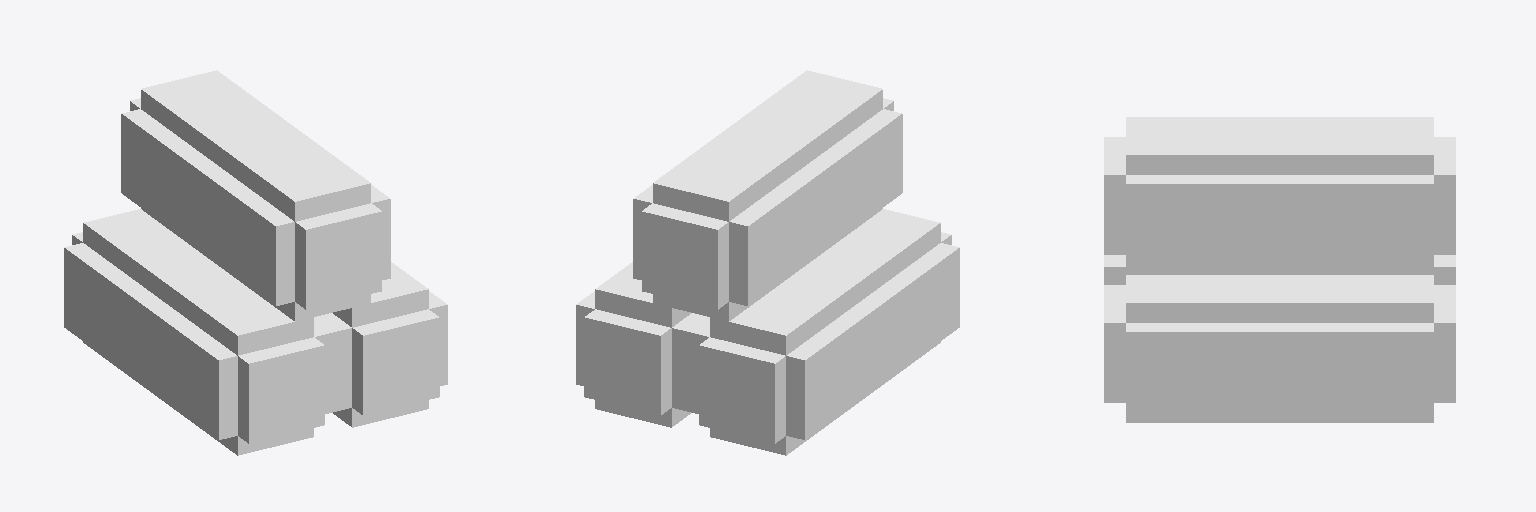
The model's file is logPile.obj.
3 renders of one model, left to right at view 1: azimuth 30°, elevation 25°; view 2: azimuth 150°, elevation 25°; view 3: azimuth 270°, elevation 25°, orthographic.
Bounding box in the file's own units: 12 × 12 × 16.